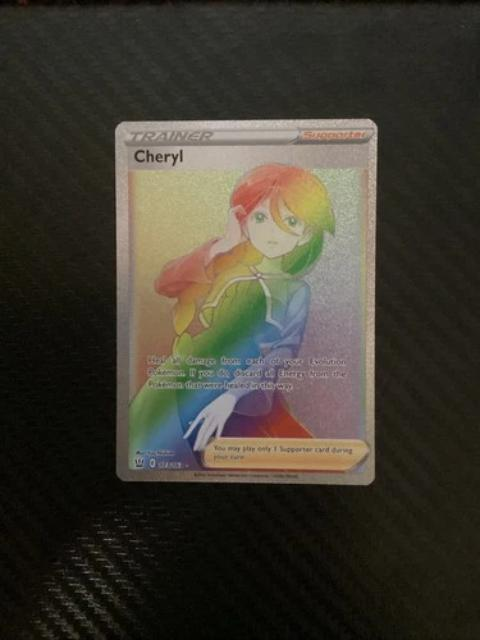Card: (111, 115, 384, 491)
Name: (128, 144, 190, 169)
